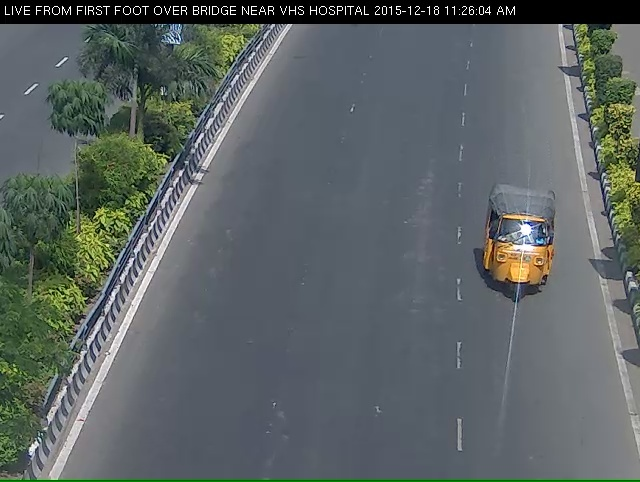Car: (476, 189, 570, 314)
